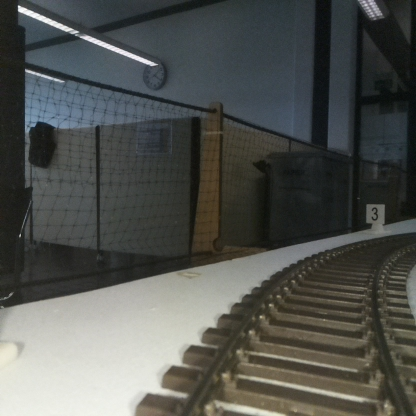white-stop-3: (366, 204, 384, 232)
